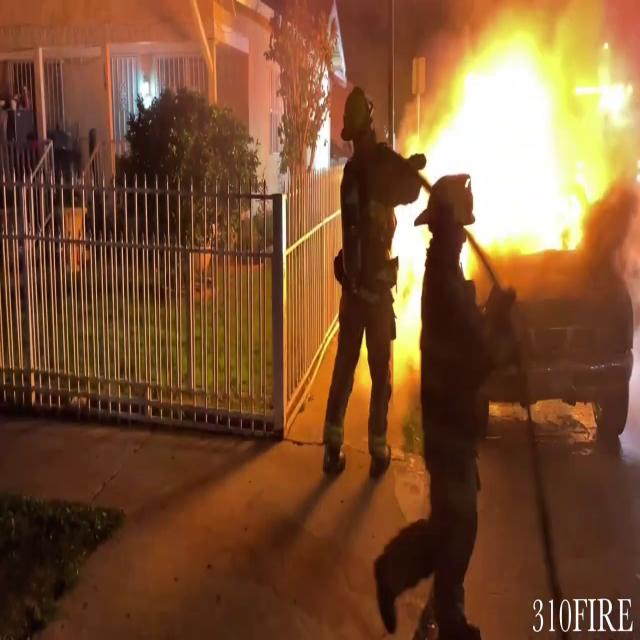Fire: (390, 5, 639, 351)
